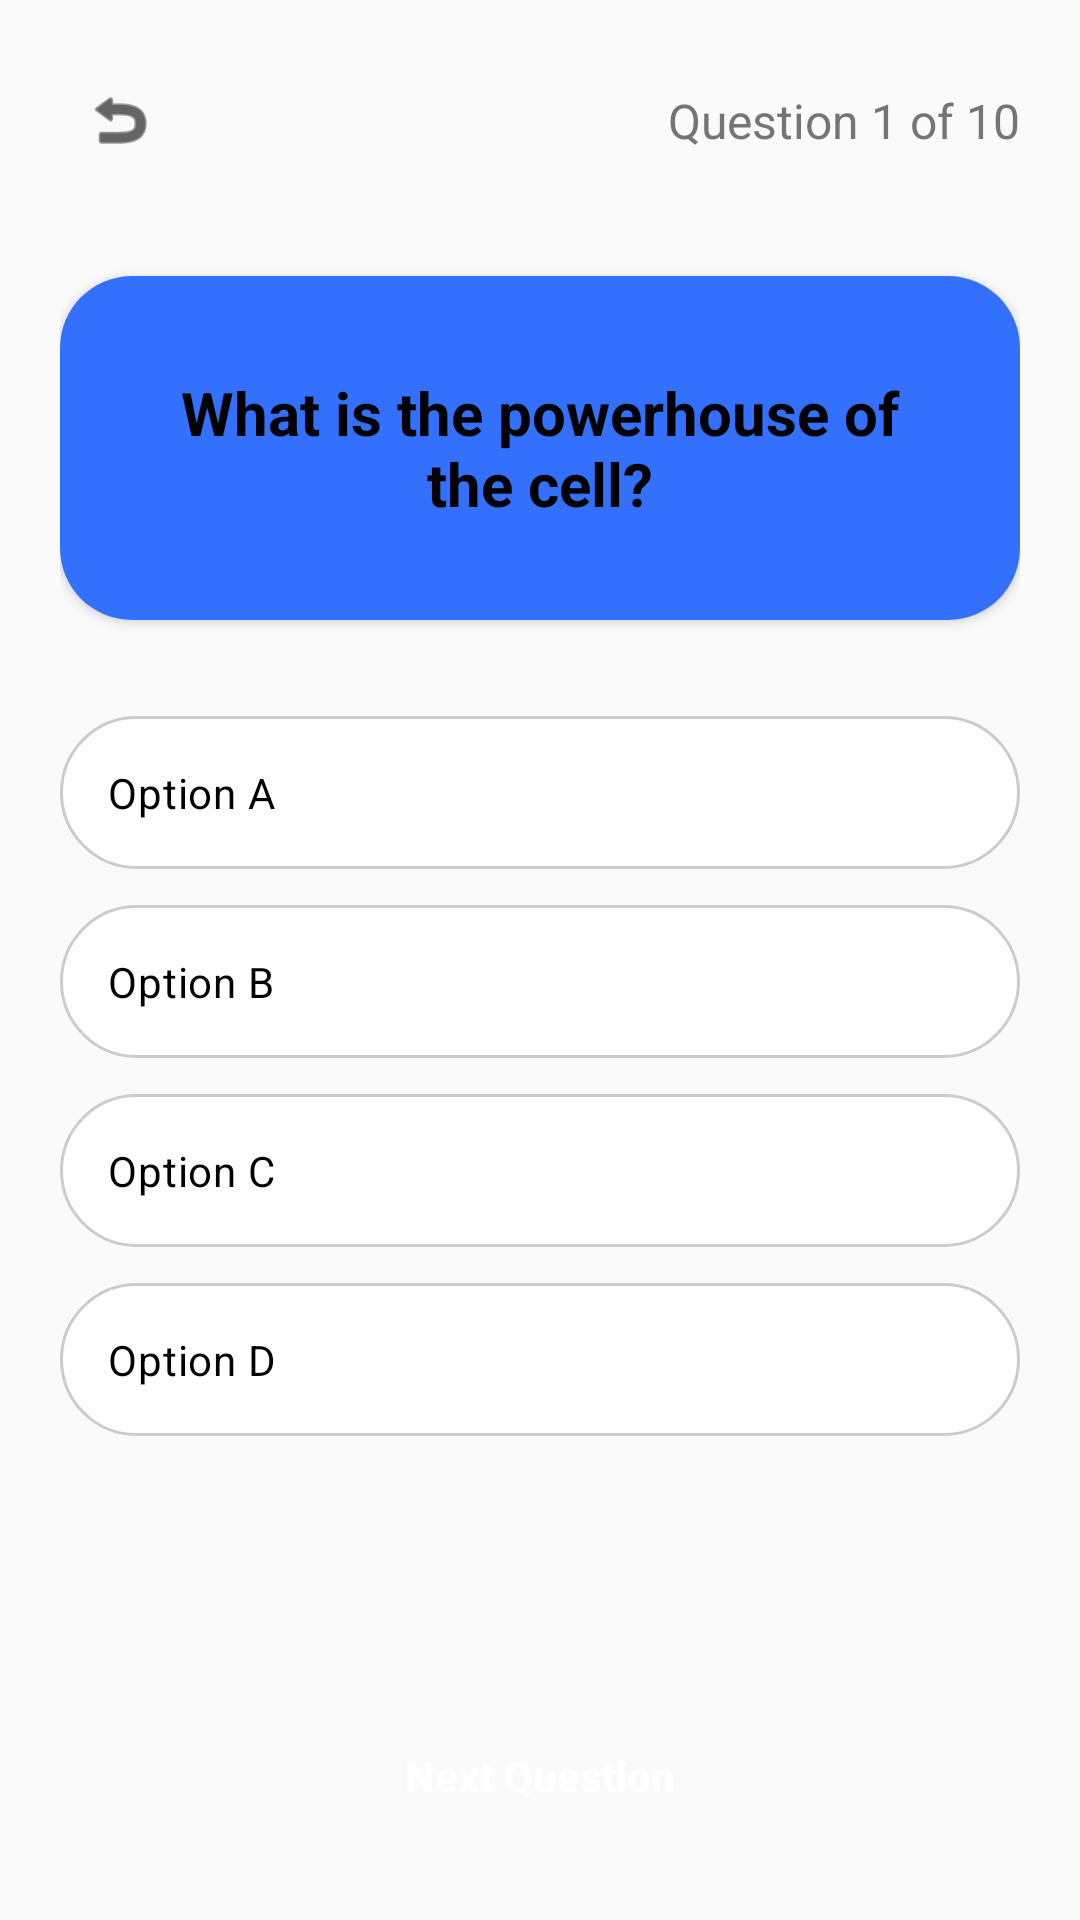

Where to tap for icons on this 1080px×1920px app screen, as [x,y]:
revert: [121,120]
